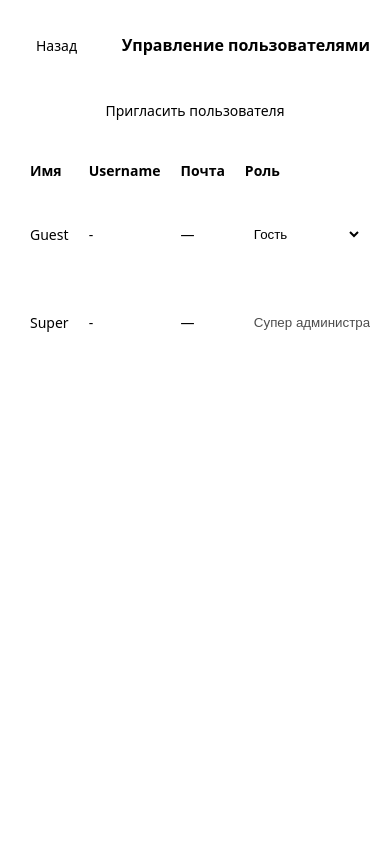
Test case: AdminPage › shared chat invite is multi-use and can be revoked
The image size is (390, 844).
Check: the heading "Управление пользователями" is shown, box x1=122 y1=33 x2=370 y2=57
Step 1. Click the button "Пригласить пользователя" → (195, 110), box x1=20 y1=90 x2=370 y2=130
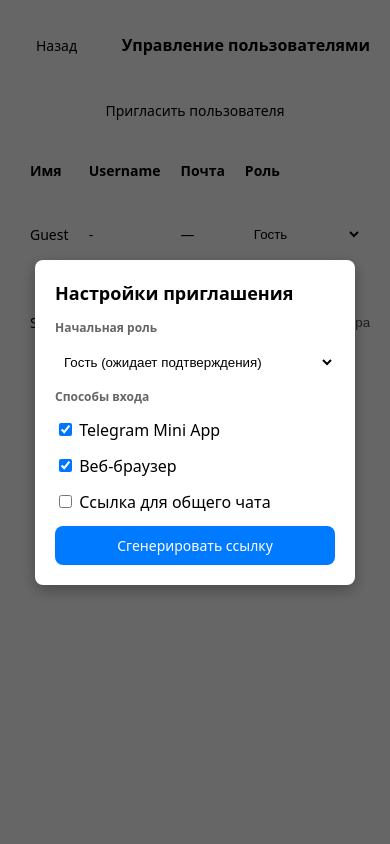
Step 2. Click the checkbox labelled "Ссылка для общего чата" → (66, 501), box x1=59 y1=494 x2=72 y2=508
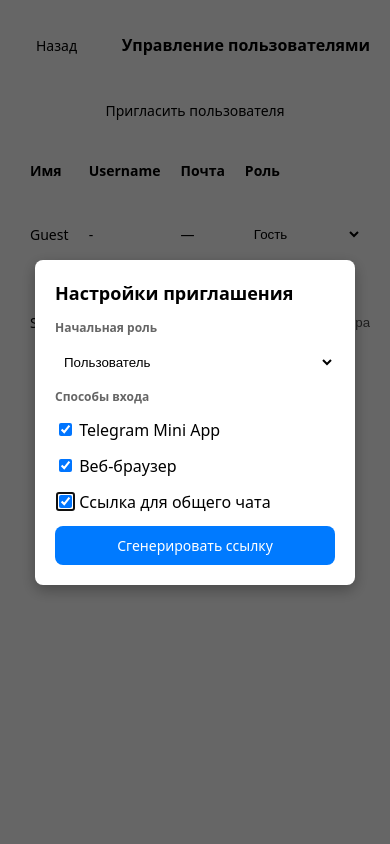
Step 3. Click the button "Сгенерировать ссылку" → (195, 545), box x1=55 y1=526 x2=335 y2=564
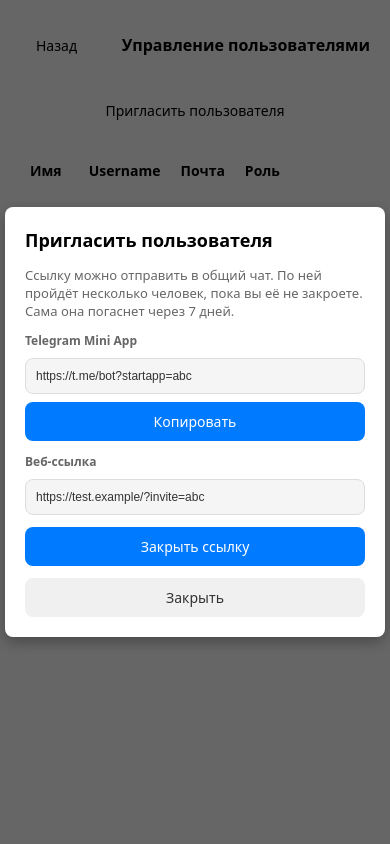
Step 4. Click the button "Закрыть ссылку" → (195, 547), box x1=25 y1=527 x2=365 y2=566
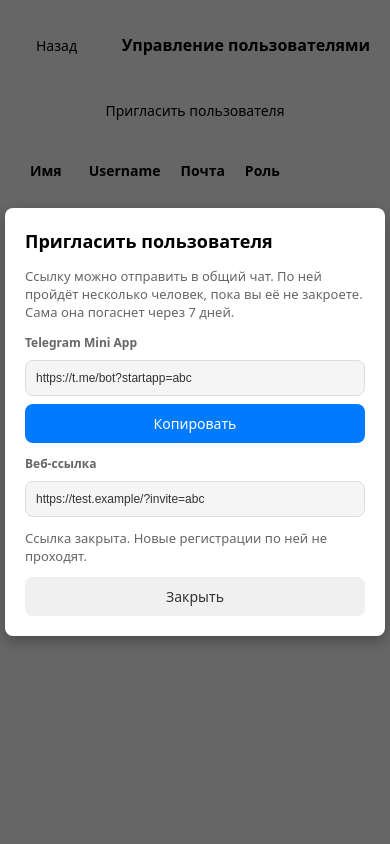
Check: the text "Ссылка закрыта. Новые регистрации по ней не проходят." is shown, box x1=25 y1=529 x2=365 y2=565
